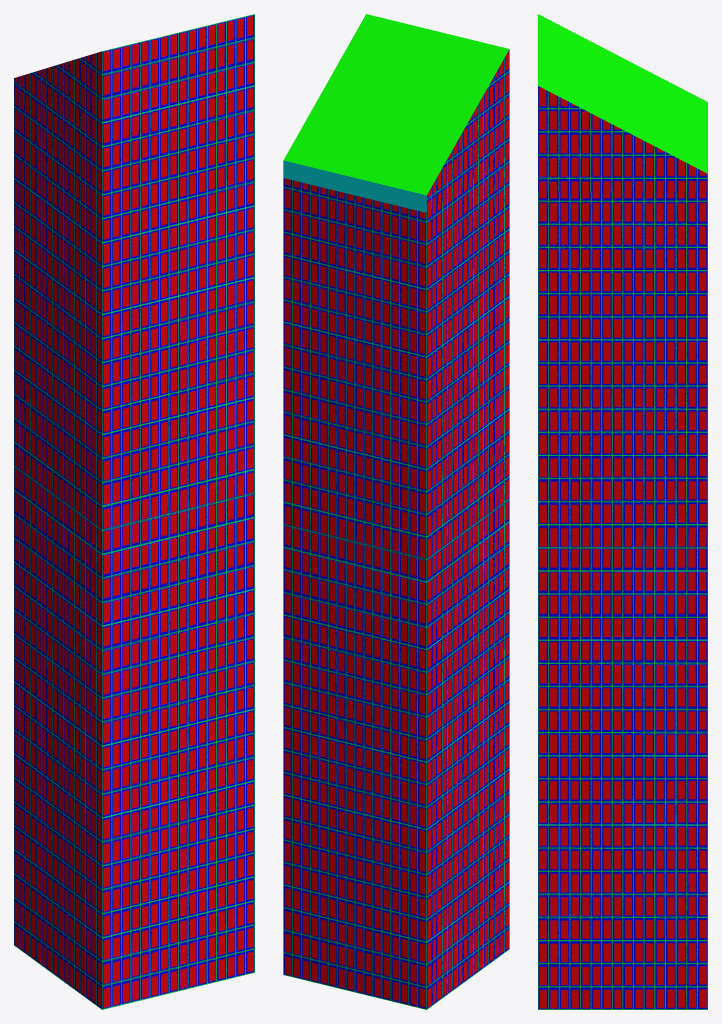
Rendered from BuildingC.fbx.
3 views of the same model, side by side, from view 1: azimuth 30°, elevation 25°; view 2: azimuth 150°, elevation 25°; view 3: azimuth 270°, elevation 25° (orthographic). The views are drawn at different scales.
Visible parts, largest first — view 1: Building_C; view 2: Building_C; view 3: Building_C.
Part boxes in pixels (<box>): Building_C: <box>14,14,254,1009</box>; Building_C: <box>283,14,509,1009</box>; Building_C: <box>538,14,707,1009</box>.
Size of what is drawn, in the model's own units: 20 by 20 by 120.
Materials: 2 (2 with a texture image).
